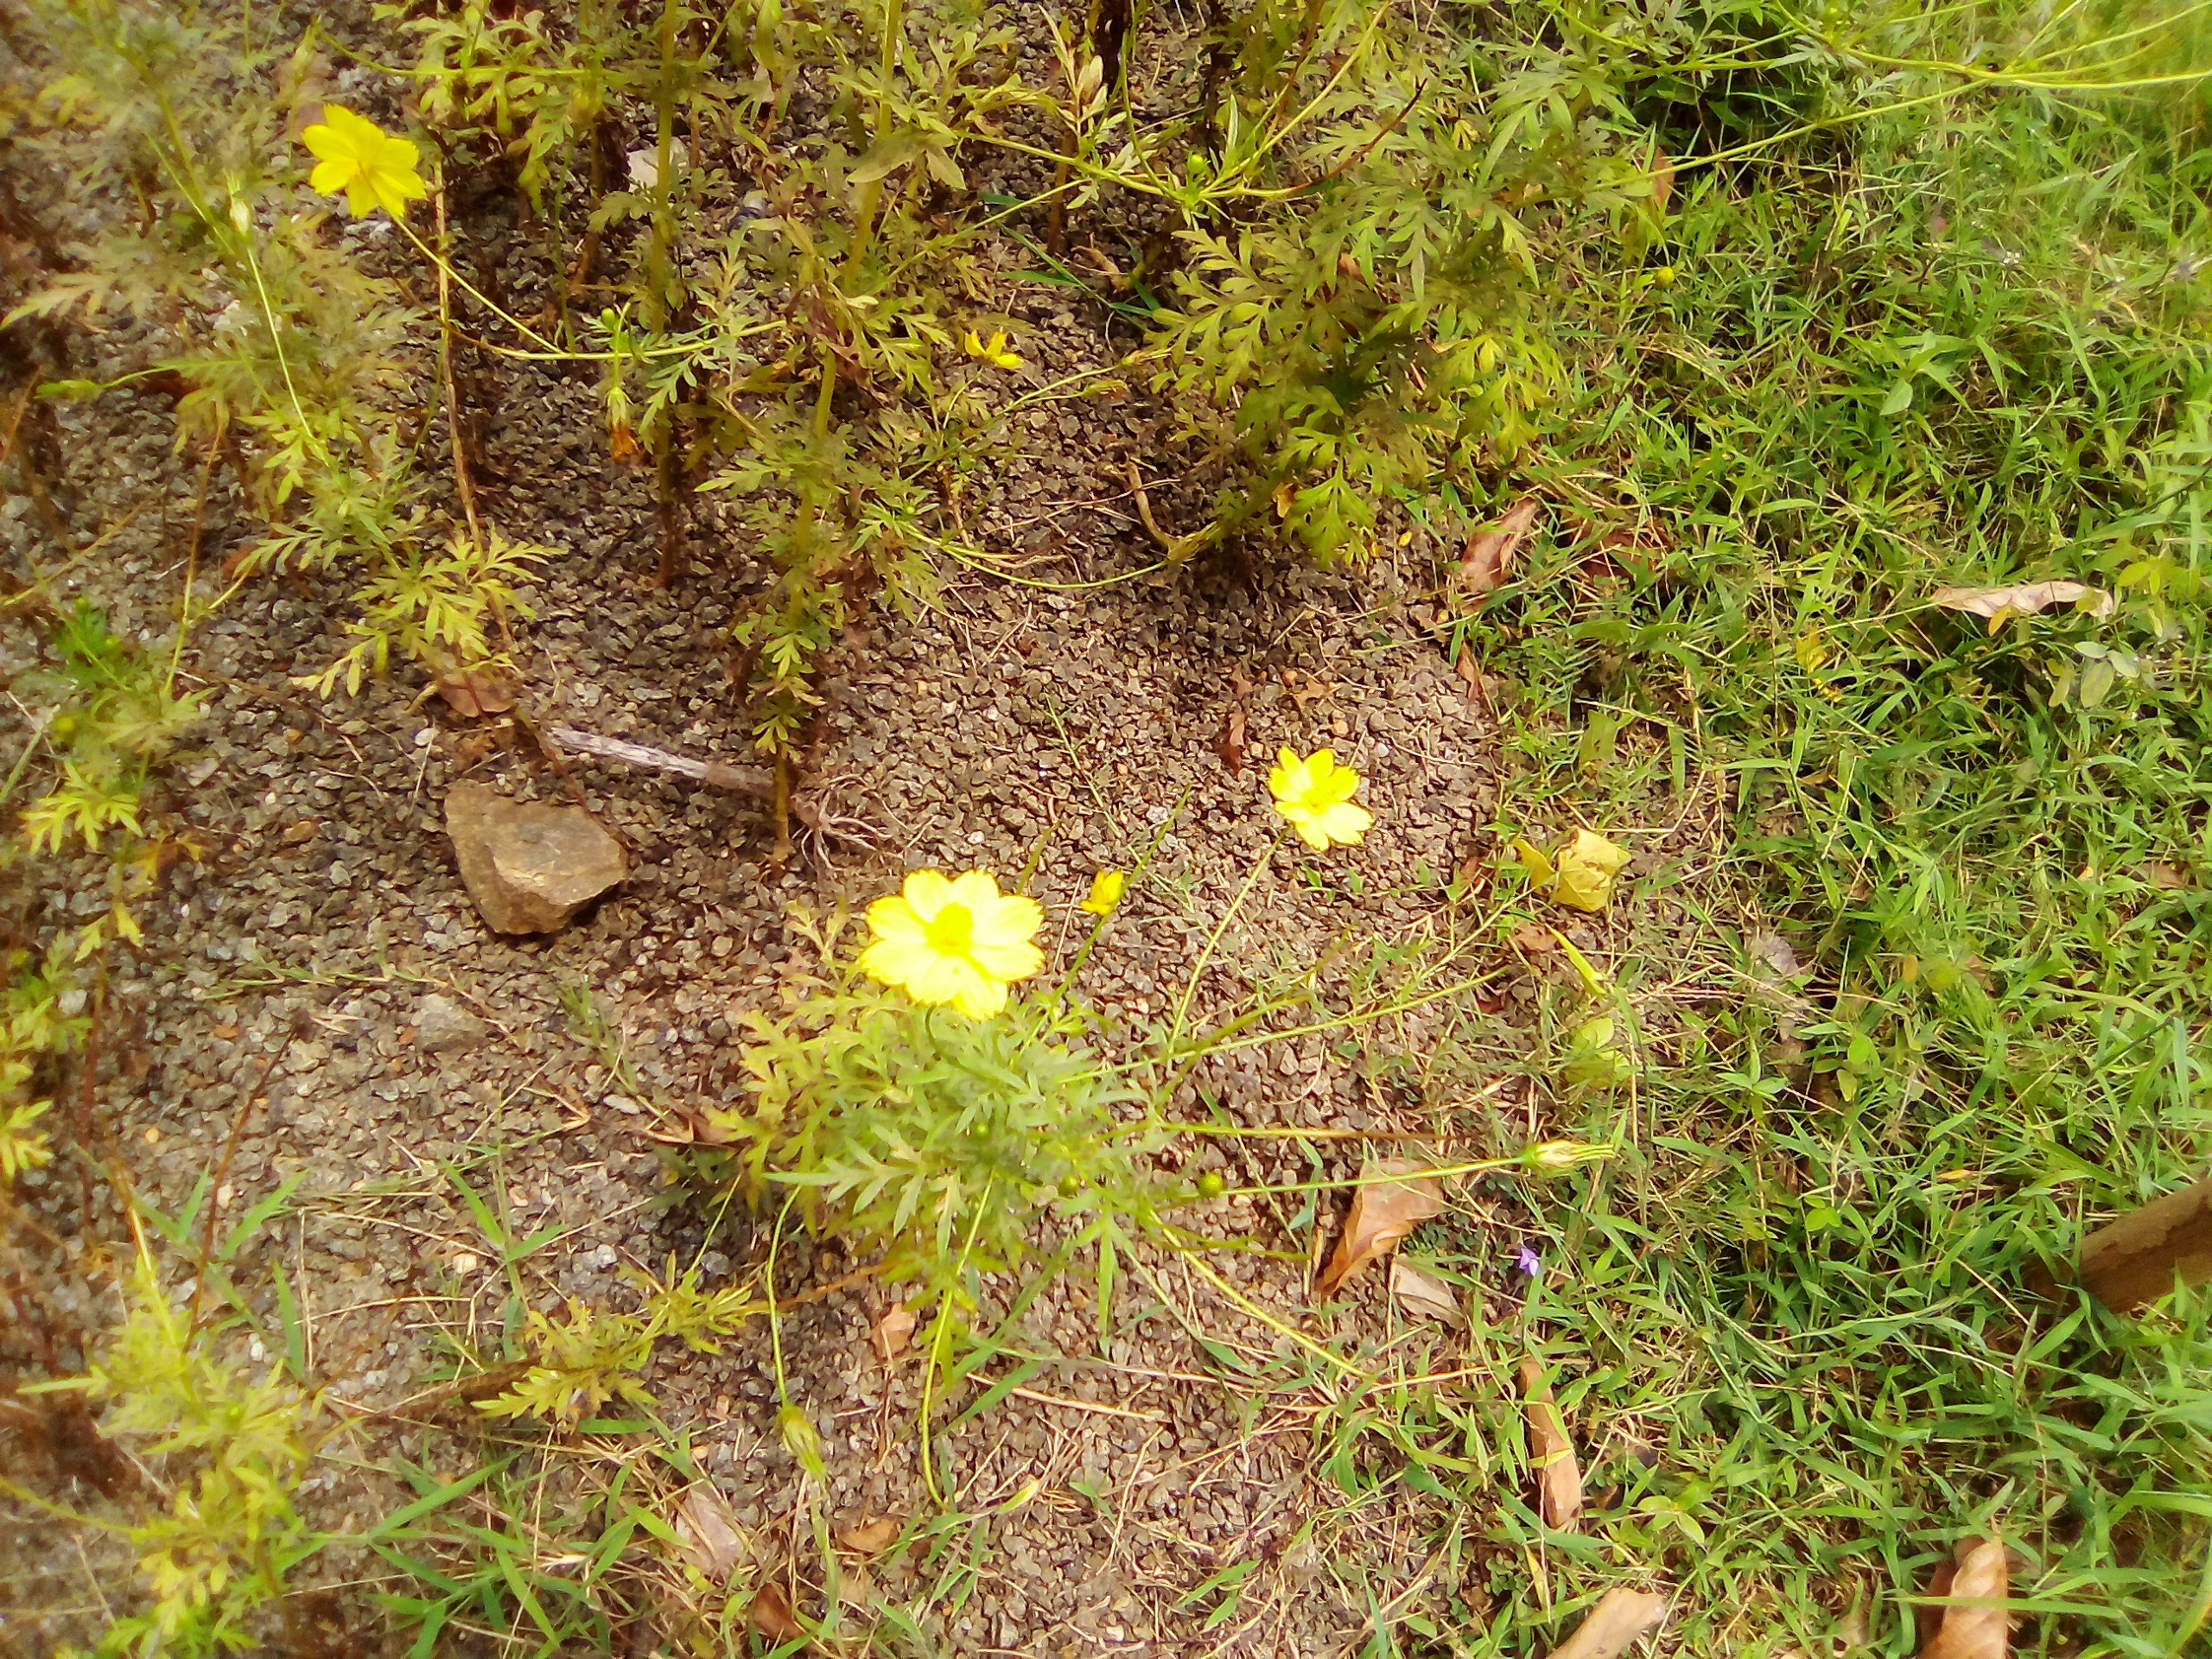kahamala: (834, 852, 1092, 1037), (294, 98, 448, 247), (1271, 741, 1439, 863)
